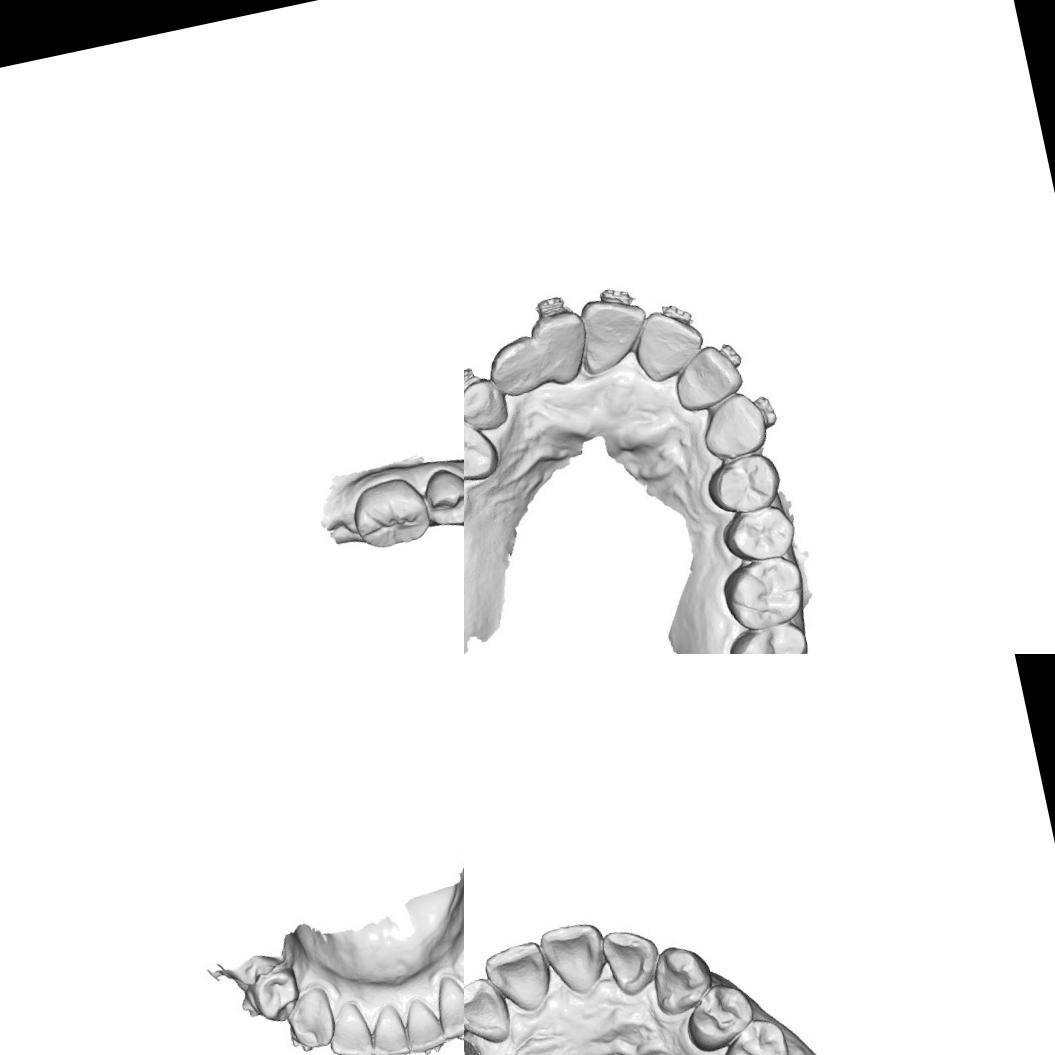canine: (694, 390, 769, 464), (645, 940, 714, 1014), (281, 983, 347, 1055), (464, 373, 512, 438)
implant_plus: (464, 1031, 482, 1055)
incisor: (534, 916, 612, 1001), (481, 936, 556, 1017), (632, 304, 706, 382), (579, 294, 648, 368), (600, 921, 664, 997), (486, 334, 554, 398), (668, 347, 740, 407), (464, 973, 517, 1051), (536, 310, 589, 379), (398, 998, 451, 1055), (325, 1002, 377, 1055), (428, 971, 464, 1042), (364, 1004, 412, 1055)
molar: (720, 550, 809, 632), (346, 473, 434, 554), (724, 619, 816, 654)
premolar: (701, 449, 786, 519), (717, 502, 803, 570), (681, 983, 756, 1055), (247, 964, 304, 1027), (417, 462, 464, 531), (715, 1015, 791, 1055), (464, 414, 498, 481)
